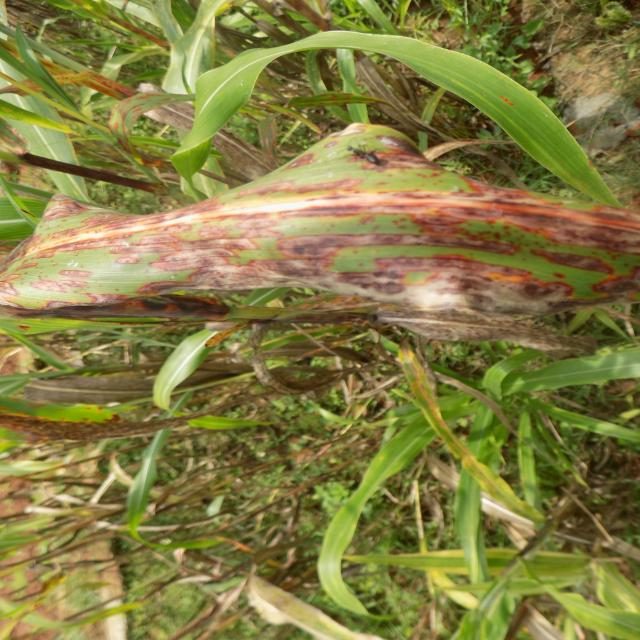millet_healthy: (172, 23, 636, 196), (314, 365, 524, 620), (146, 270, 305, 412), (126, 418, 230, 556), (0, 80, 106, 208), (454, 373, 504, 589), (443, 550, 552, 640), (455, 352, 640, 401), (520, 577, 640, 640)
millet_rust: (0, 124, 640, 317), (0, 66, 322, 188), (390, 346, 550, 532), (343, 49, 528, 171), (100, 80, 282, 182), (378, 298, 635, 357), (101, 76, 211, 198), (0, 408, 199, 470), (333, 544, 640, 582), (5, 372, 179, 409), (262, 83, 425, 121), (412, 134, 542, 164)
